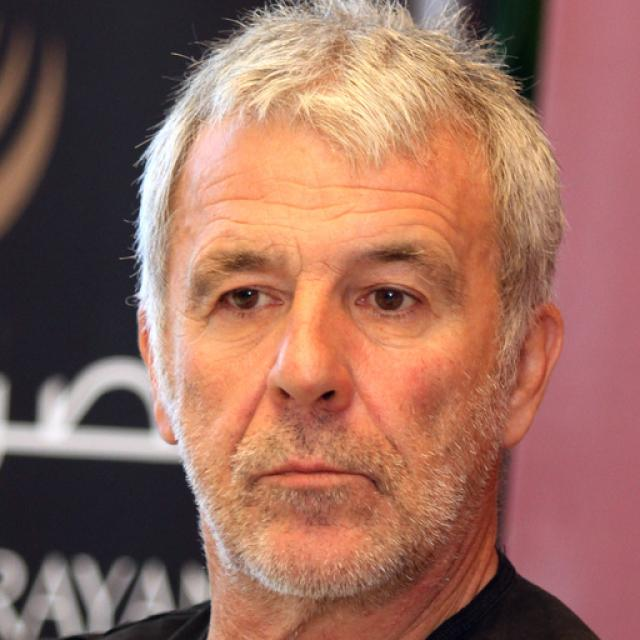Wrinkle: (283, 174, 458, 212), (354, 367, 405, 460), (328, 203, 460, 235), (394, 216, 465, 273), (227, 370, 269, 464), (196, 193, 348, 212), (199, 211, 298, 237)
